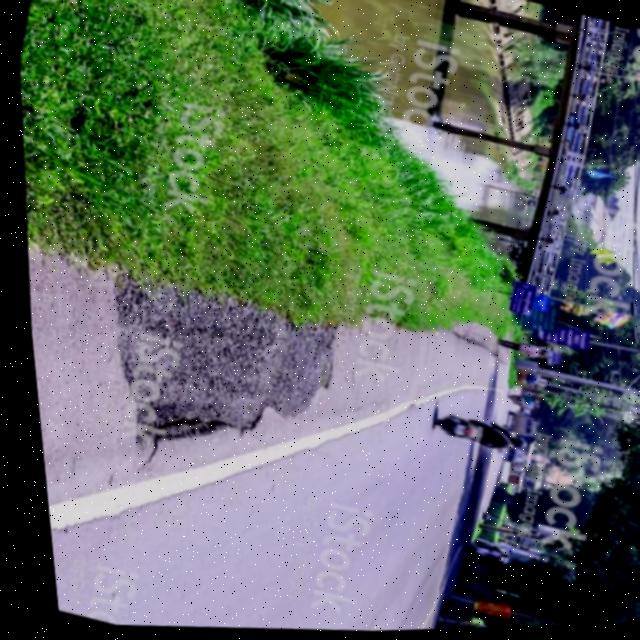Pothole: (68, 259, 352, 493)
